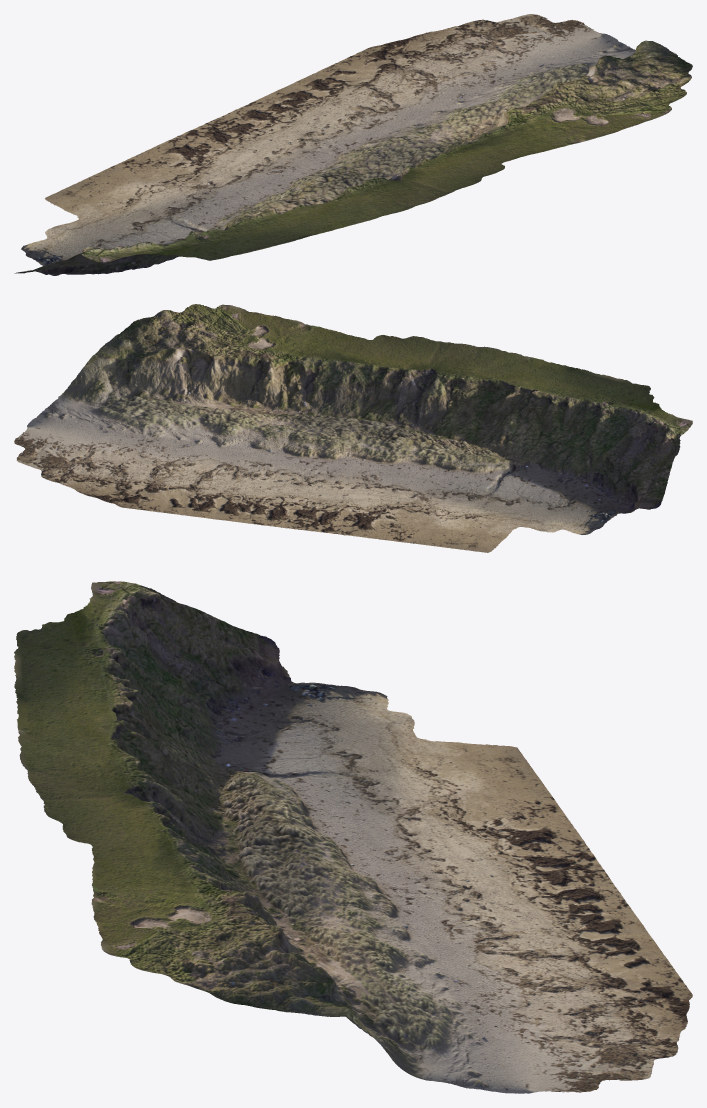
The model's file is beach_in_ballyduff.glb.
The picture shows the model from 3 angles, top to bottom: view 1: azimuth 30°, elevation 25°; view 2: azimuth 150°, elevation 25°; view 3: azimuth 270°, elevation 25°; orthographic projection. The views are drawn at different scales.
Parts seen in each view (by area): view 1: Object_2, Object_3; view 2: Object_2, Object_3; view 3: Object_2, Object_3.
Part boxes in pixels (x1,y1,x2,y2): Object_2: [14, 14, 692, 275]; Object_3: [32, 30, 686, 275]; Object_2: [14, 304, 692, 552]; Object_3: [27, 304, 640, 529]; Object_2: [14, 581, 692, 1093]; Object_3: [17, 657, 566, 1093].
Size of the model in its own units: 59 by 6.8 by 36.88.
1 material, 1 textured.
